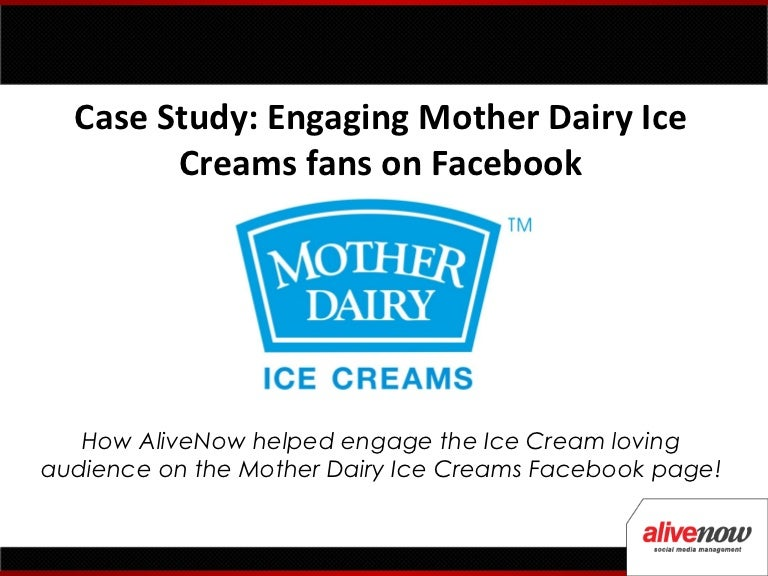Mother_Dairy: (227, 195, 545, 404)
